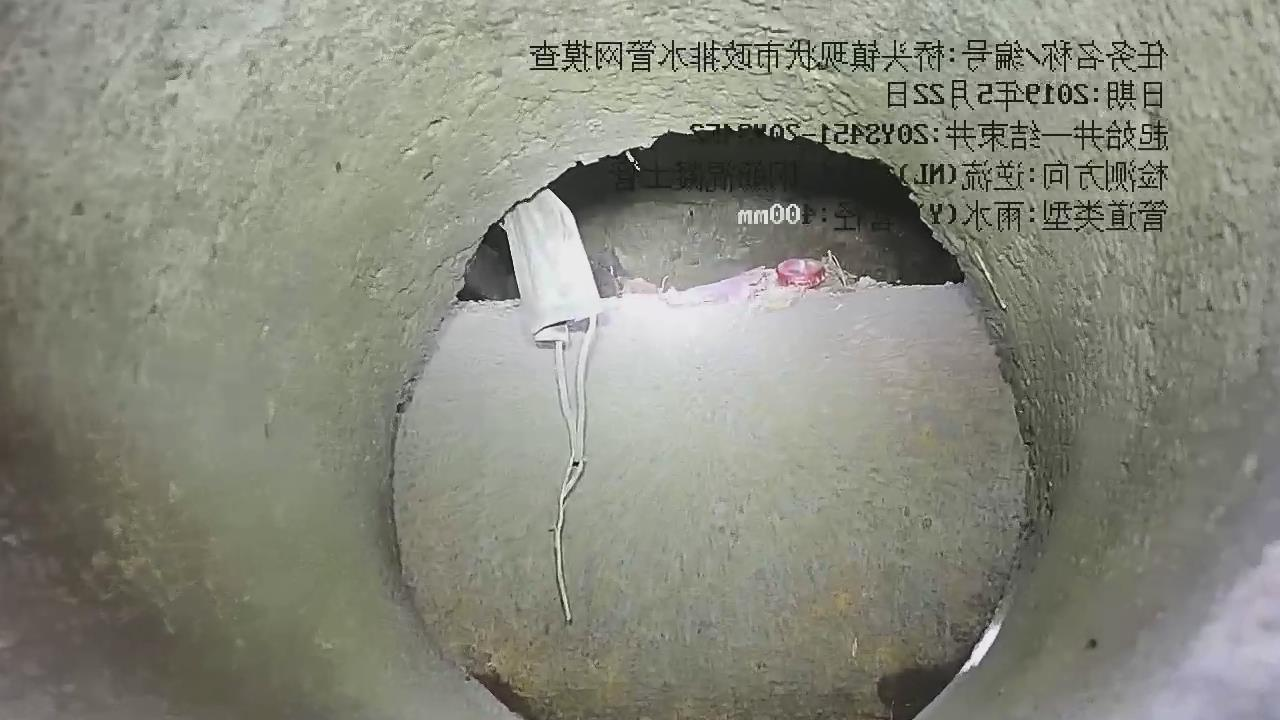CQBG: (393, 276, 1028, 719)
